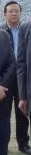boots: (18, 144, 31, 155), (0, 149, 7, 155)
hard-hat: (21, 1, 31, 12)
